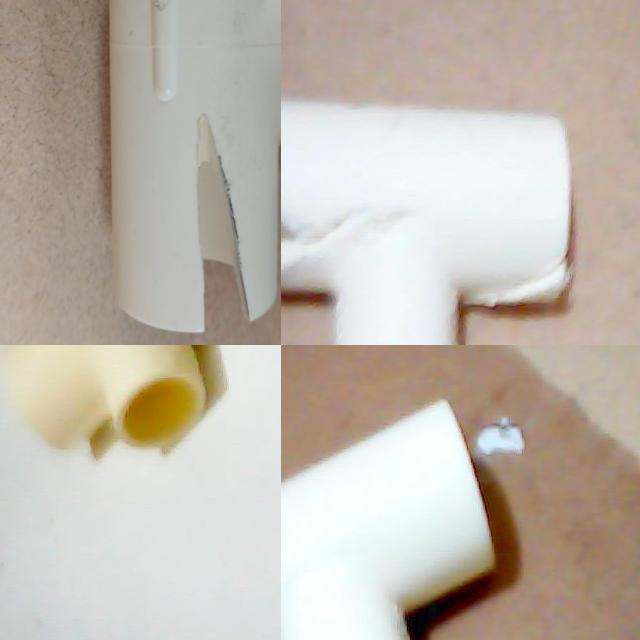Defective: (460, 244, 582, 338), (135, 68, 281, 139), (281, 149, 338, 295)
T Joint: (281, 99, 574, 345), (0, 0, 281, 255), (281, 400, 497, 640), (2, 345, 207, 450)
